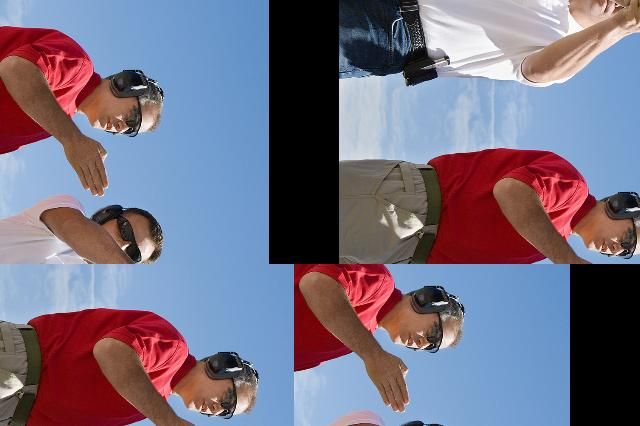handgun: (147, 0, 204, 38), (215, 264, 294, 290), (459, 264, 523, 274)
